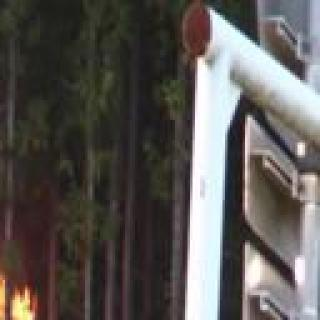fire: (0, 62, 43, 320)
